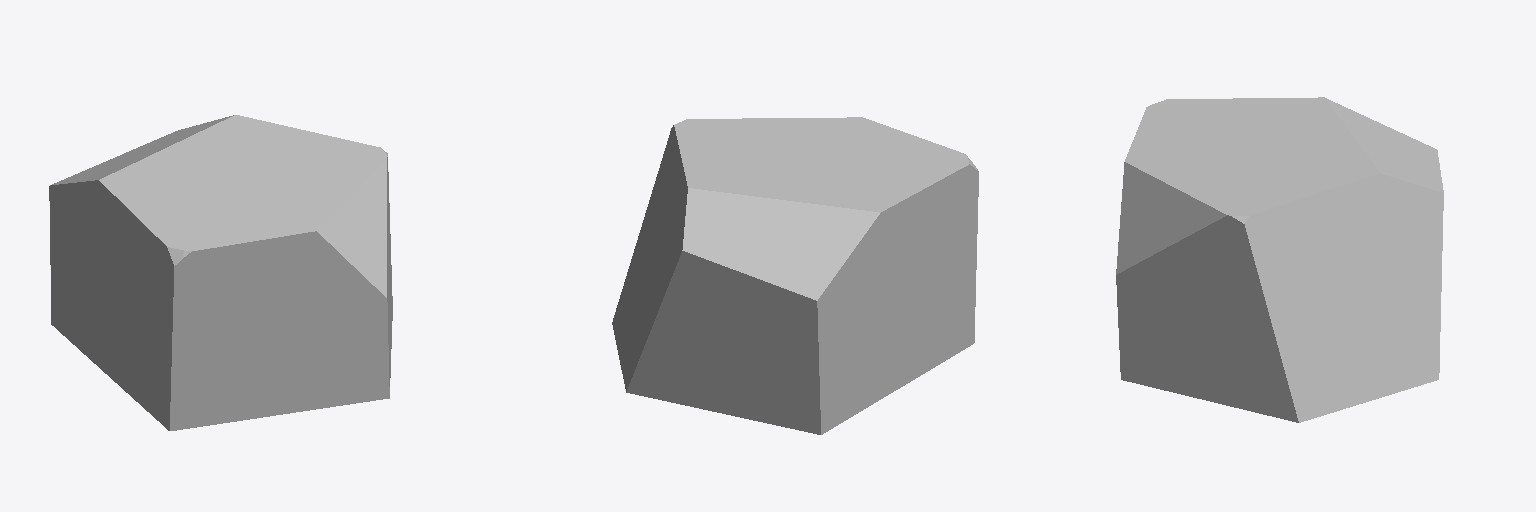
The model's file is rock3.obj.
3 views of the same model, side by side, from view 1: azimuth 30°, elevation 25°; view 2: azimuth 150°, elevation 25°; view 3: azimuth 270°, elevation 25° (orthographic).
Visible parts, largest first — view 1: Cube.002_Cube; view 2: Cube.002_Cube; view 3: Cube.002_Cube.
Part boxes in pixels (x1,y1,x2,y2): Cube.002_Cube: (49,115,392,430); Cube.002_Cube: (612,117,978,434); Cube.002_Cube: (1116,97,1443,422).
Size of the model in its own units: 0.5286 by 0.3362 by 0.5125.